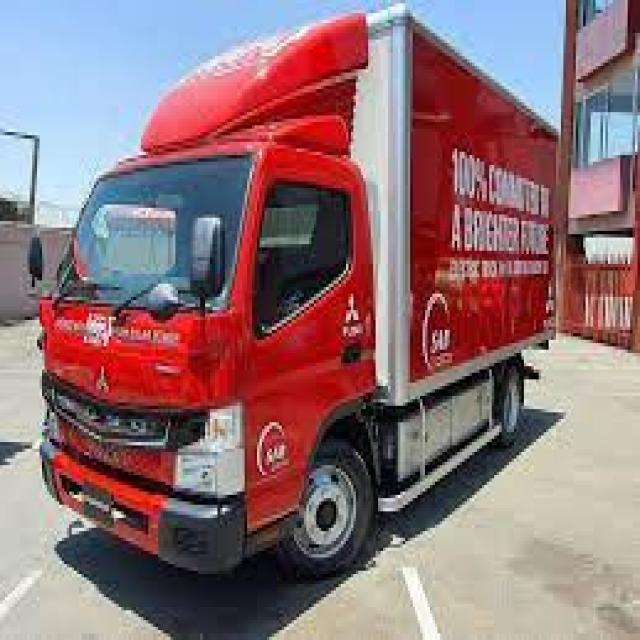Heavy Duty Truck: (29, 3, 558, 581)
